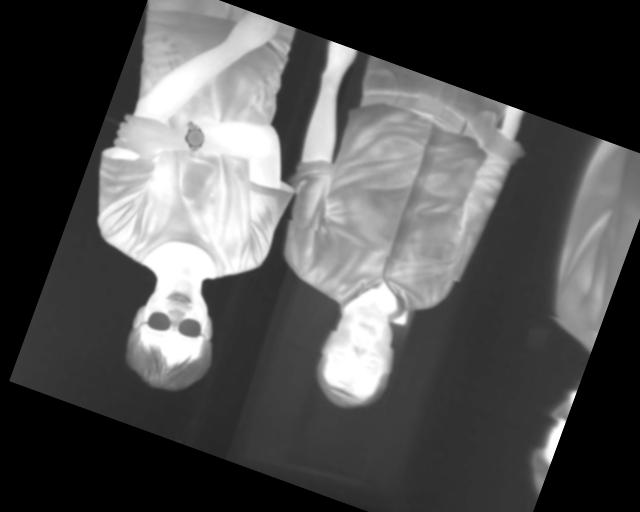face: (113, 265, 234, 403), (304, 294, 410, 421)
